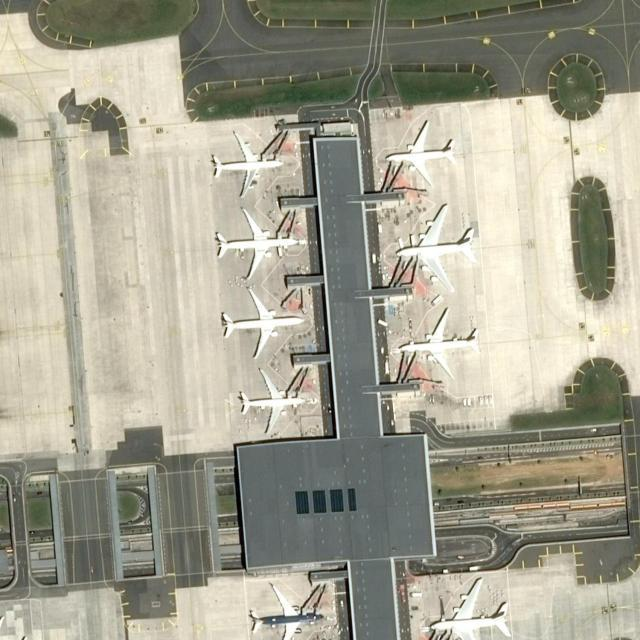Aircraft: (397, 202, 479, 293), (211, 204, 297, 278), (396, 308, 480, 382), (219, 287, 303, 359), (430, 573, 516, 639), (380, 119, 460, 185), (205, 130, 286, 194), (232, 371, 311, 435), (244, 584, 324, 640), (0, 616, 33, 640)
